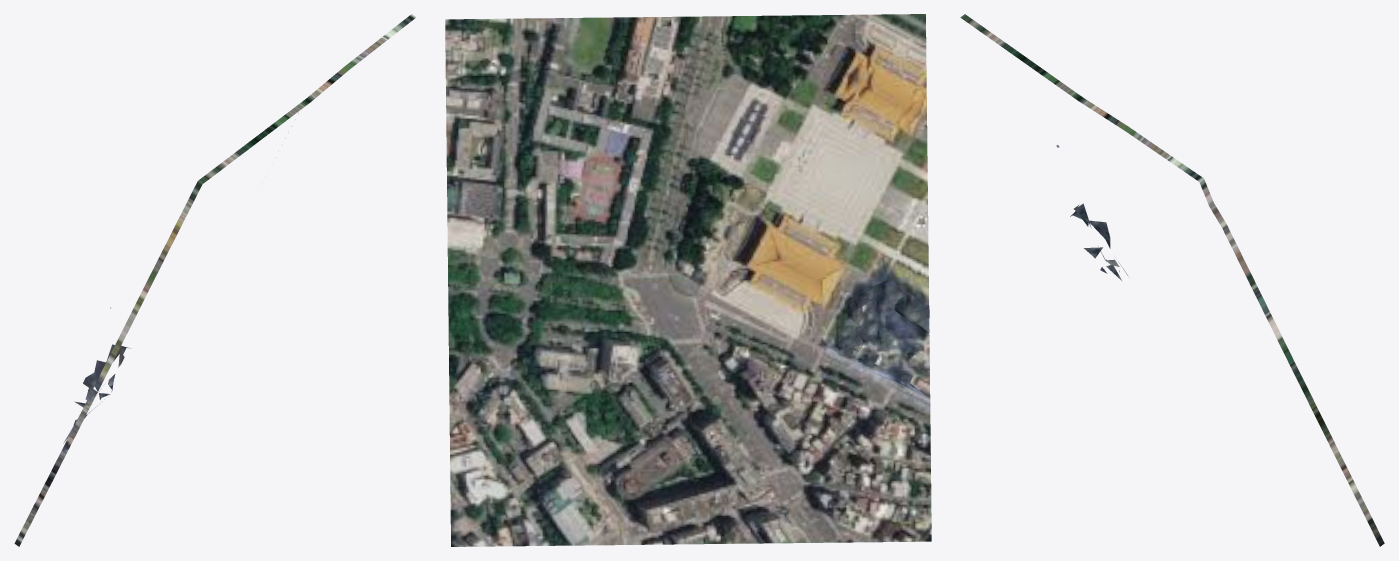
3 views of the same model, side by side, from view 1: azimuth 30°, elevation 25°; view 2: azimuth 150°, elevation 25°; view 3: azimuth 270°, elevation 25° (orthographic). The views are drawn at different scales.
Bounding box in the file's own units: 611 × 555 × 515.
1 material, 1 textured.
